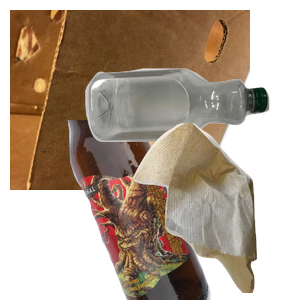cardboard: (10, 10, 250, 190)
glass: (65, 120, 300, 300)
plastic: (83, 66, 300, 201)
trash: (131, 120, 300, 300)
